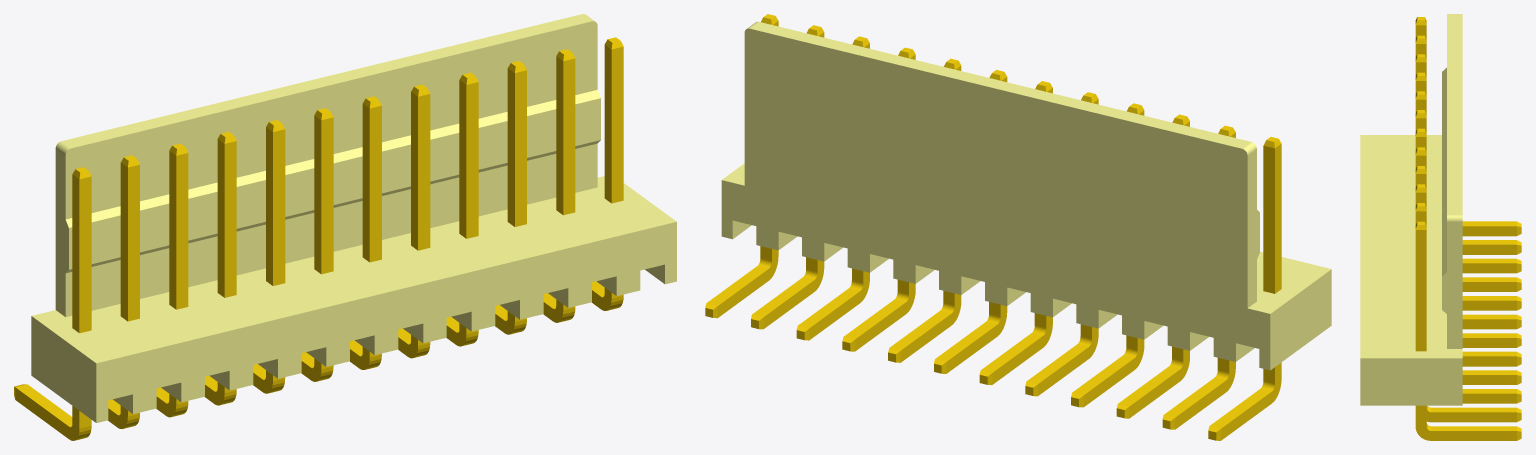
Rendered from DS1070-12MR (WF-12RA CONNFLY).obj.
3 views of the same model, side by side, from view 1: azimuth 30°, elevation 25°; view 2: azimuth 150°, elevation 25°; view 3: azimuth 270°, elevation 25° (orthographic). The views are drawn at different scales.
Visible parts, largest first — view 1: DS1070-12MR_(WF-12RA_CONNFLY); view 2: DS1070-12MR_(WF-12RA_CONNFLY); view 3: DS1070-12MR_(WF-12RA_CONNFLY).
Boxes of the visible parts, x1,y1,x2,y2 form: DS1070-12MR_(WF-12RA_CONNFLY): [14, 14, 676, 440]; DS1070-12MR_(WF-12RA_CONNFLY): [705, 14, 1331, 440]; DS1070-12MR_(WF-12RA_CONNFLY): [1360, 14, 1521, 440].
Bounding box in the file's own units: 0.0249 × 0.0115 × 0.0076.
